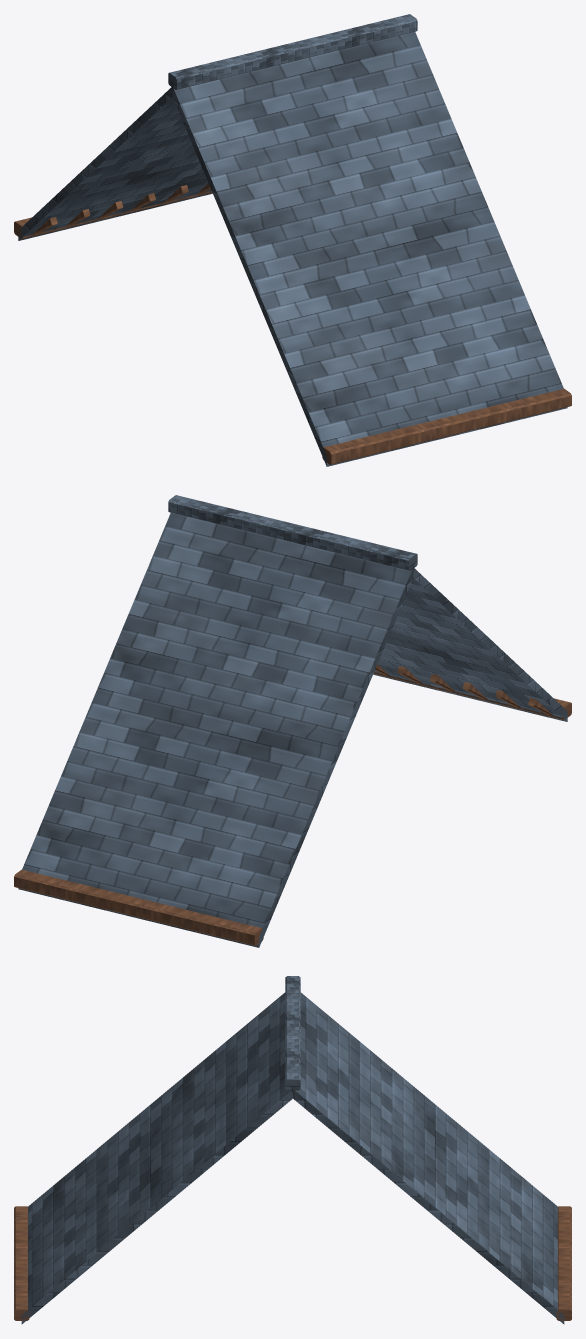
File: roof_wide.glb
3 views of the same model, one above another, from view 1: azimuth 30°, elevation 25°; view 2: azimuth 150°, elevation 25°; view 3: azimuth 270°, elevation 25° (orthographic). The views are drawn at different scales.
Parts seen in each view (by area): view 1: Roof Wide; view 2: Roof Wide; view 3: Roof Wide.
Boxes of the visible parts, box(x1,y1,x2,y2) form: Roof Wide: box(14, 14, 571, 466); Roof Wide: box(14, 495, 571, 947); Roof Wide: box(14, 976, 571, 1324).
Bounding box in the file's own units: 3.2 × 3.54 × 7.3.
2 materials, 2 textured.
